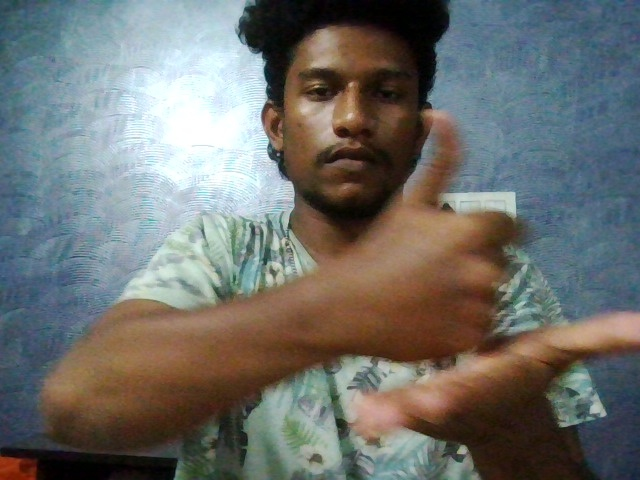help: (257, 112, 612, 445)
